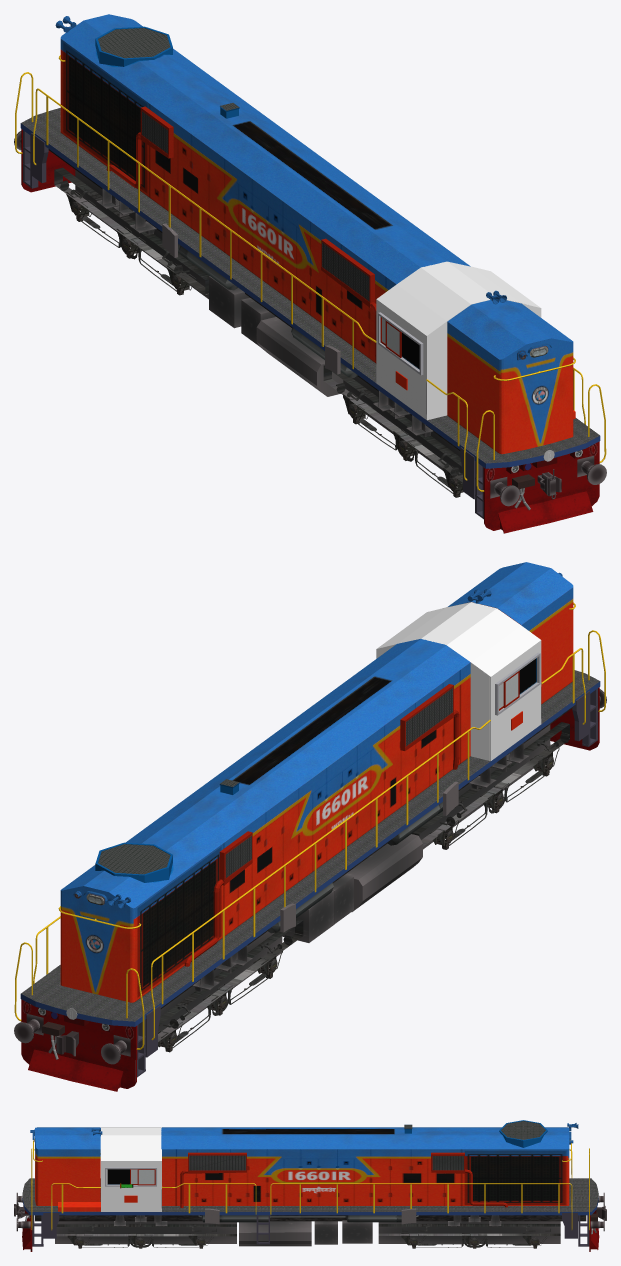
File: loco_wdm3d_gaya.glb
The picture shows the model from 3 angles, top to bottom: view 1: azimuth 30°, elevation 25°; view 2: azimuth 150°, elevation 25°; view 3: azimuth 270°, elevation 25°; orthographic projection. The views are drawn at different scales.
Parts seen in each view (by area): view 1: wdm3d_gaya__wdm3d_vta_11125.glb; view 2: wdm3d_gaya__wdm3d_vta_11125.glb; view 3: wdm3d_gaya__wdm3d_vta_11125.glb.
Part boxes in pixels (x1,y1,x2,y2): wdm3d_gaya__wdm3d_vta_11125.glb: (14, 14, 606, 533); wdm3d_gaya__wdm3d_vta_11125.glb: (14, 562, 606, 1091); wdm3d_gaya__wdm3d_vta_11125.glb: (14, 1120, 606, 1251).
Size of the model in its own units: 3.22 by 4.17 by 20.06.
Materials: 4 (4 with a texture image).
